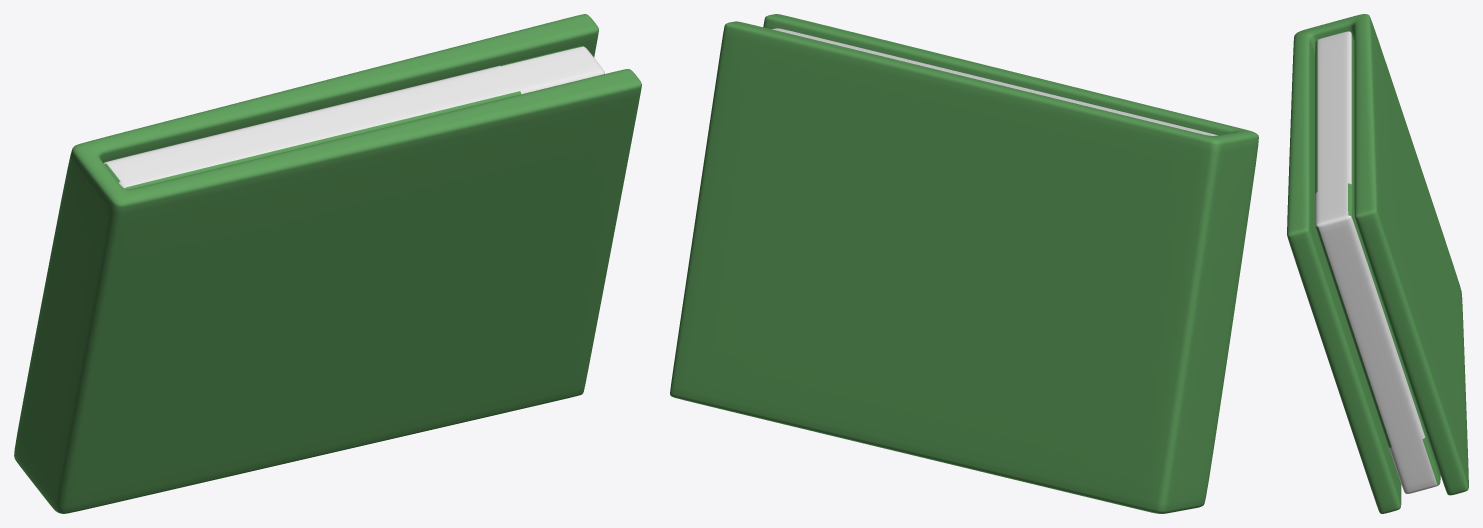
Rendered from Book04.fbx.
The picture shows the model from 3 angles, left to right: view 1: azimuth 30°, elevation 25°; view 2: azimuth 150°, elevation 25°; view 3: azimuth 270°, elevation 25°; orthographic projection. The views are drawn at different scales.
Visible parts, largest first — view 1: Plane.019; view 2: Plane.019; view 3: Plane.019.
Boxes of the visible parts, x1=… form: Plane.019: x1=14, y1=14, x2=641, y2=513; Plane.019: x1=670, y1=14, x2=1258, y2=513; Plane.019: x1=1287, y1=14, x2=1468, y2=513.
Bounding box in the file's own units: 131 × 91.73 × 49.72.
